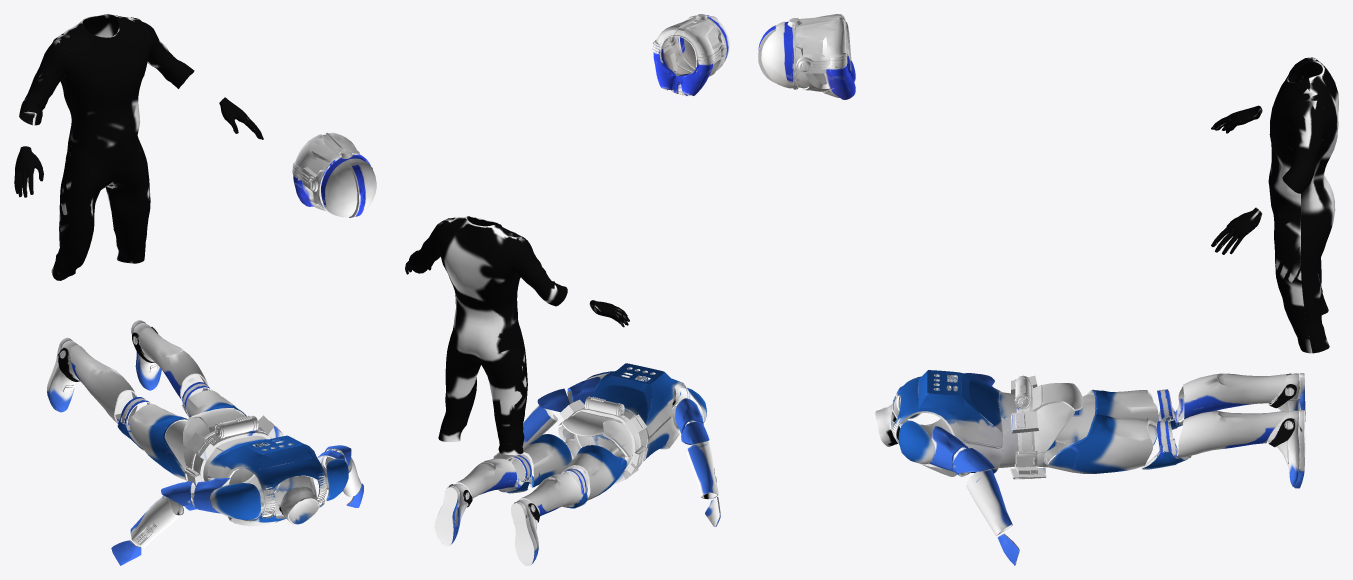
Rendered from Clone501.glb.
3 views of the same model, side by side, from view 1: azimuth 30°, elevation 25°; view 2: azimuth 150°, elevation 25°; view 3: azimuth 270°, elevation 25° (orthographic). The views are drawn at different scales.
Parts seen in each view (by area): view 1: Body_Phase1, Mesh, Phase2_Helmet; view 2: Body_Phase1, Mesh, Phase2_Helmet; view 3: Body_Phase1, Mesh, Phase2_Helmet.
Boxes of the visible parts, x1,y1,x2,y2 form: Body_Phase1: (46, 320, 363, 565); Mesh: (14, 14, 263, 280); Phase2_Helmet: (292, 132, 376, 217); Body_Phase1: (434, 363, 720, 565); Mesh: (405, 216, 629, 454); Phase2_Helmet: (652, 14, 729, 96); Body_Phase1: (874, 370, 1305, 565); Mesh: (1211, 57, 1338, 353); Phase2_Helmet: (758, 14, 855, 99).
Bounding box in the file's own units: 1.3 × 2.27 × 2.45.
5 materials, 3 textured.
